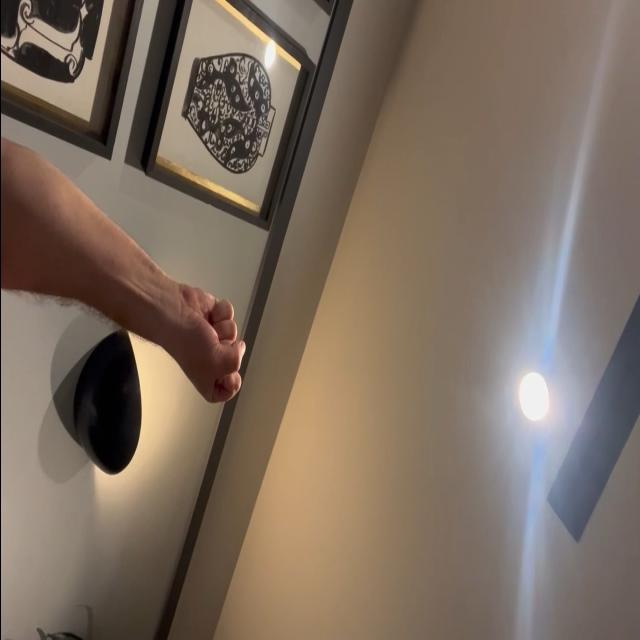Rock: (176, 286, 246, 404)
